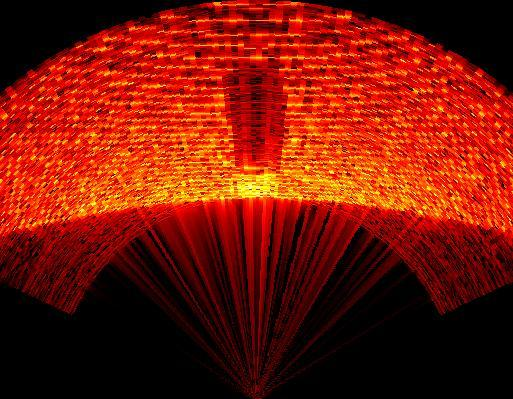box_crate: (224, 58, 292, 196)
